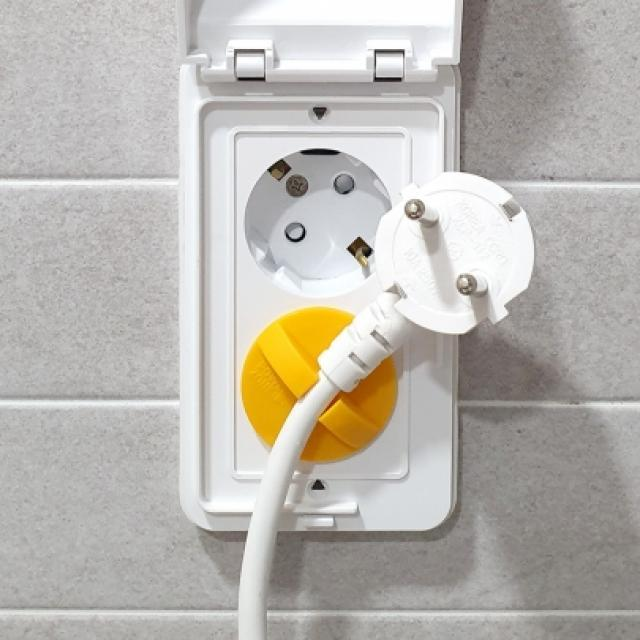typeb: (162, 56, 468, 314)
